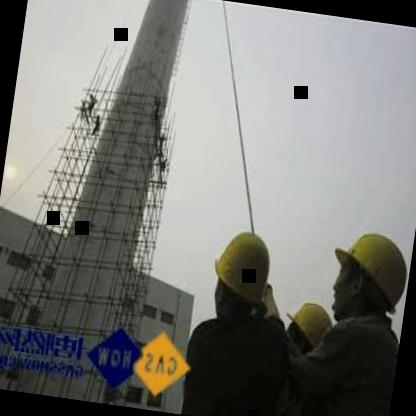helmet: (320, 214, 416, 334), (203, 220, 279, 321), (278, 289, 338, 362)
